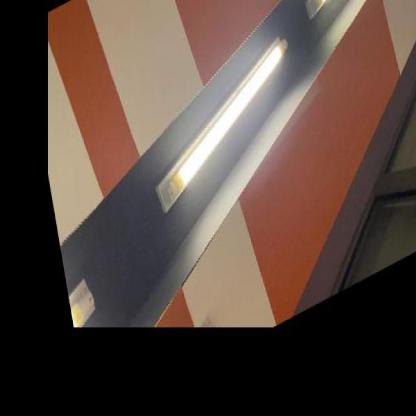light_on: (138, 25, 304, 223), (286, 0, 415, 37), (65, 260, 110, 348)
